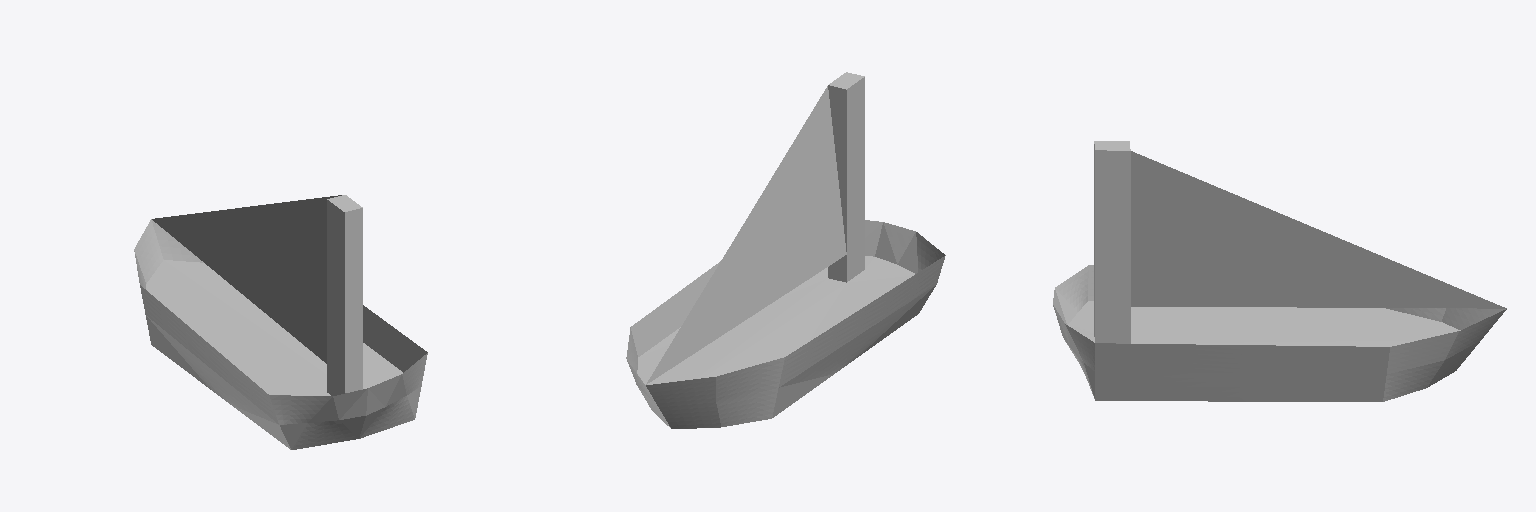
File: small5points.obj
The picture shows the model from 3 angles: view 1: azimuth 30°, elevation 25°; view 2: azimuth 150°, elevation 25°; view 3: azimuth 270°, elevation 25°; orthographic projection.
Parts seen in each view (by area): view 1: Cube.001_Cube.002; view 2: Cube.001_Cube.002; view 3: Cube.001_Cube.002.
Part boxes in pixels (x1,y1,x2,y2): Cube.001_Cube.002: (134,195,427,449); Cube.001_Cube.002: (626,72,945,428); Cube.001_Cube.002: (1053,141,1506,401).
Bounding box in the file's own units: 0.2033 × 0.2658 × 0.4864.